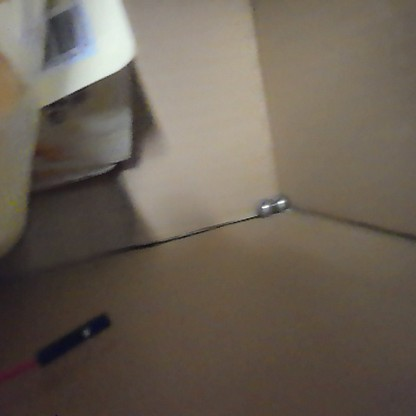ironball: (253, 195, 275, 218), (270, 190, 291, 213)
